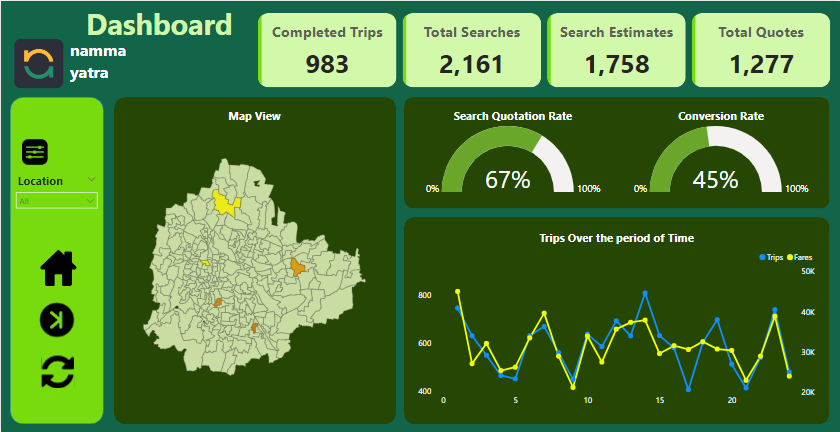

Layout of this report page (visuals, bound fields, positions):
{"tool":"powerbi","page":{"name":"Dashboard1","canvas":[1400,720],"ordinal":0},"visuals":[{"type":"cardVisual","fields":{"Data":["Sum(trips_details.end_ride)","Sum(trips_details.searches)","Sum(trips_details.searches_got_estimate)","Sum(trips_details.searches_got_quotes)"]},"box":[423.4,15.6,965.6,134.4],"z":0},{"type":"shape","box":[15.6,159.4,156.2,545.3],"z":1000},{"type":"shape","box":[671.9,359.4,709.4,345.3],"z":2000},{"type":"lineChart","title":"Trips Over the period of Time","fields":{"Category":["Merge2.trips.duration"],"Y":["Sum(Merge2.trips.distance)"],"Y2":["Sum(Merge2.trips.fare)"]},"box":[690.6,381.2,671.9,301.6],"z":3000},{"type":"shape","box":[187.5,159.4,470.3,545.3],"z":4000},{"type":"shape","box":[671.9,159.4,709.4,185.9],"z":5000},{"type":"gauge","fields":{"Y":["Calculations.Search Quotation Rate"]},"box":[690.6,178.1,326.6,150],"z":6000},{"type":"gauge","fields":{"Y":["Calculations.Conversion Rate"]},"box":[1035.9,178.1,326.6,150],"z":7000},{"type":"image","box":[15.6,57.8,95.3,92.2],"z":8000},{"type":"textbox","box":[109.4,57.8,123.4,92.2],"z":9000},{"type":"textbox","box":[135.9,0,278.1,78.1],"z":10000},{"type":"actionButton","box":[53.1,492.2,82.8,79.7],"z":11000},{"type":"actionButton","box":[64.1,584.4,62.5,65.6],"z":12000},{"type":"image","box":[56.2,409.4,78.1,70.3],"z":13000},{"type":"slicer","fields":{"Values":["loc (2).assembly1"]},"box":[15.6,281.2,156.2,78.1],"z":14000},{"type":"image","box":[29.7,223.4,53.1,57.8],"z":15000},{"type":"shapeMap","title":"Map View","fields":{"Value":["CountNonNull(trips.tripid)"],"Category":["loc (2).assembly1"]},"box":[211.7,178.3,421.7,505],"z":16000}]}

Visuals, with their boxes in screenshot pixels (x1, y1, x2, y2), scaled from the page's 1400x720 canvas onto the 840x432 screenshot:
cardVisual - Sum(trips_details.end_ride) x Sum(trips_details.searches): [left=254, top=9, right=833, bottom=90]
shape: [left=9, top=96, right=103, bottom=423]
shape: [left=403, top=216, right=829, bottom=423]
"Trips Over the period of Time" lineChart: [left=414, top=229, right=818, bottom=410]
shape: [left=112, top=96, right=395, bottom=423]
shape: [left=403, top=96, right=829, bottom=207]
gauge - Calculations.Search Quotation Rate: [left=414, top=107, right=610, bottom=197]
gauge - Calculations.Conversion Rate: [left=622, top=107, right=818, bottom=197]
image: [left=9, top=35, right=67, bottom=90]
textbox: [left=66, top=35, right=140, bottom=90]
textbox: [left=82, top=0, right=248, bottom=47]
actionButton: [left=32, top=295, right=82, bottom=343]
actionButton: [left=38, top=351, right=76, bottom=390]
image: [left=34, top=246, right=81, bottom=288]
slicer - loc (2).assembly1: [left=9, top=169, right=103, bottom=216]
image: [left=18, top=134, right=50, bottom=169]
"Map View" shapeMap: [left=127, top=107, right=380, bottom=410]
